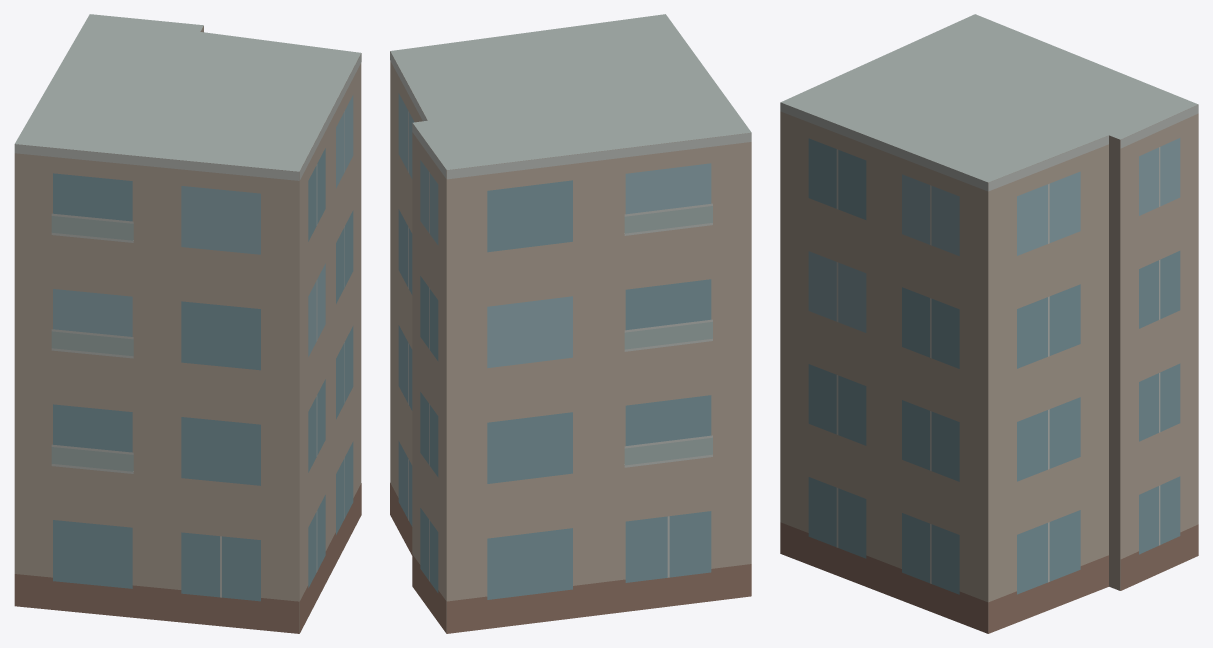
The model's file is survey-upis-32726158.glb.
3 views of the same model, side by side, from view 1: azimuth 30°, elevation 25°; view 2: azimuth 150°, elevation 25°; view 3: azimuth 270°, elevation 25° (orthographic). The views are drawn at different scales.
Parts seen in each view (by area): view 1: survey-upis-32726158.tmp; view 2: survey-upis-32726158.tmp; view 3: survey-upis-32726158.tmp.
Part boxes in pixels (x1,y1,x2,y2): survey-upis-32726158.tmp: (14, 14, 361, 633); survey-upis-32726158.tmp: (390, 14, 751, 633); survey-upis-32726158.tmp: (780, 14, 1198, 633).
Bounding box in the file's own units: 9.78 × 12.2 × 10.25.
